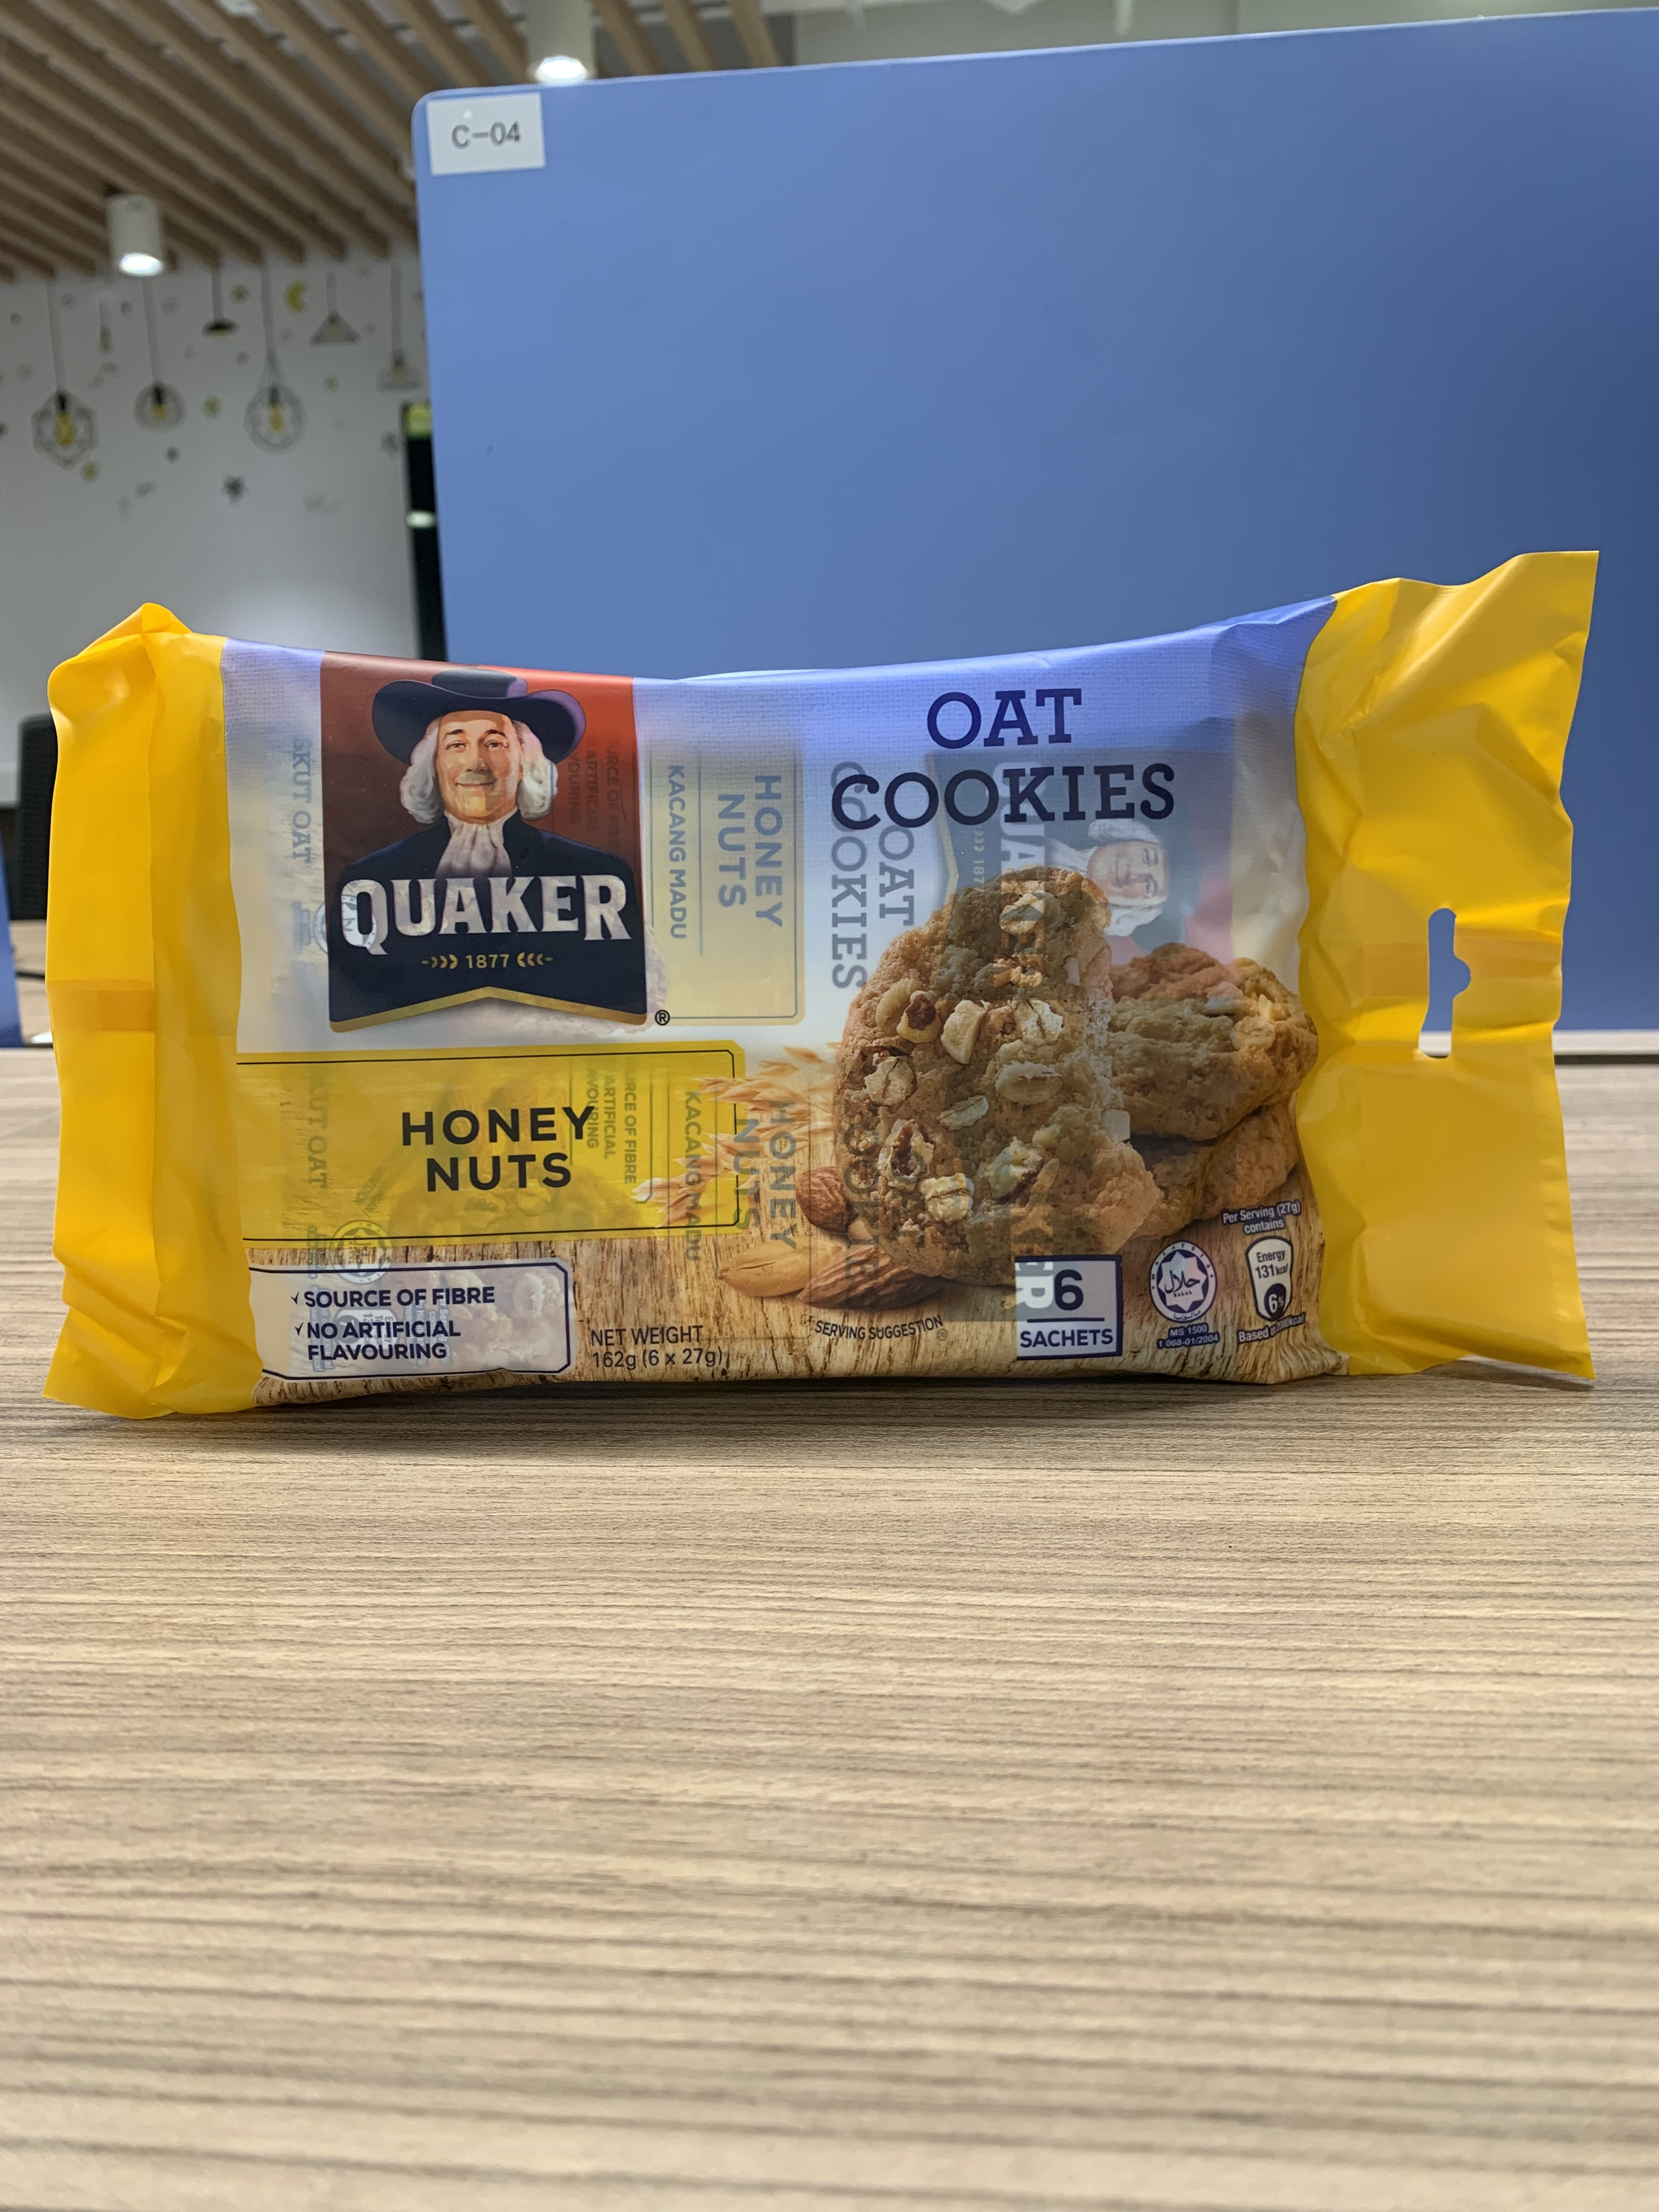halal: (1150, 1242, 1215, 1320)
